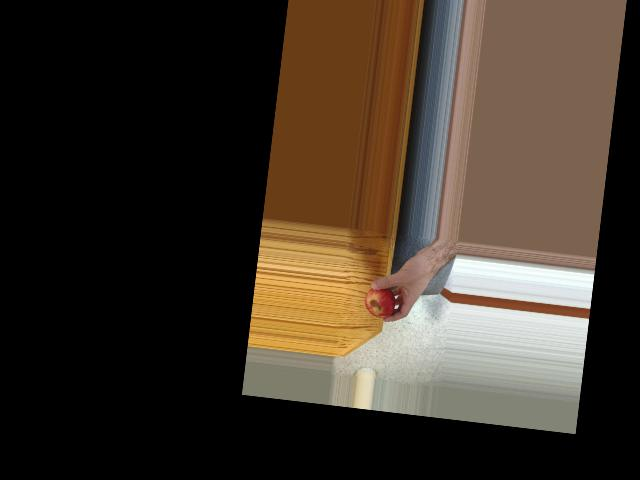apple: (361, 281, 398, 321)
